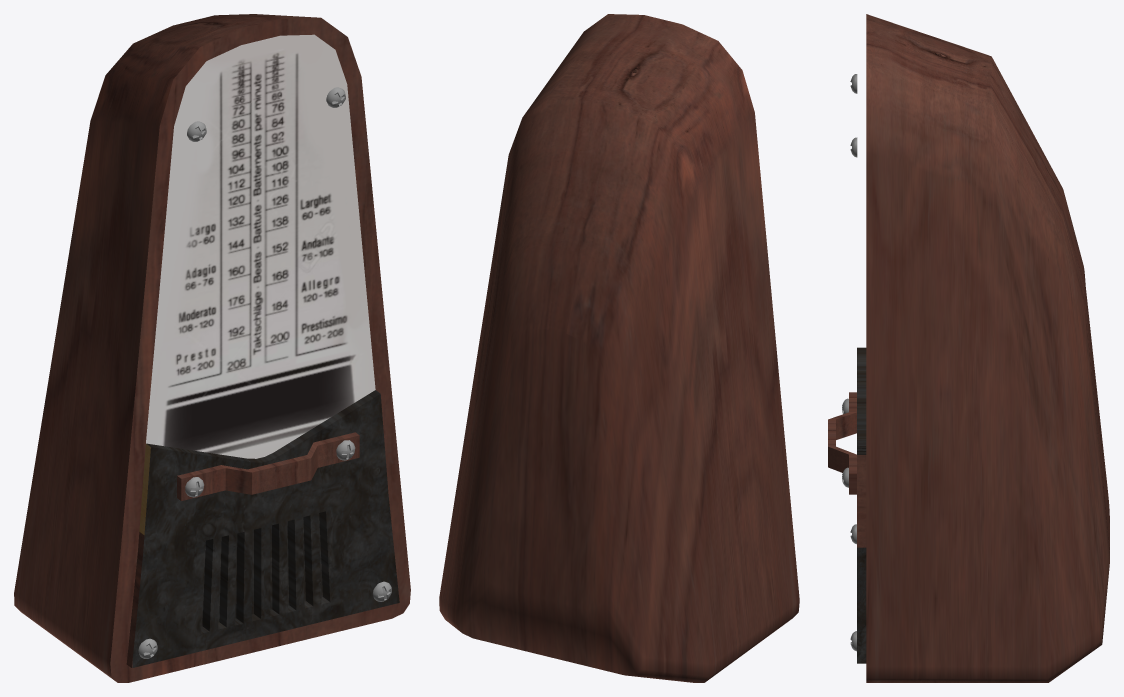
The model's file is ENV_Metronome_01.FBX.
The picture shows the model from 3 angles, left to right: view 1: azimuth 30°, elevation 25°; view 2: azimuth 150°, elevation 25°; view 3: azimuth 270°, elevation 25°; orthographic projection. The views are drawn at different scales.
Visible parts, largest first — view 1: ENV_Metronome_01; view 2: ENV_Metronome_01; view 3: ENV_Metronome_01.
Part boxes in pixels (bbox=[...]): ENV_Metronome_01: bbox=[14, 14, 410, 682]; ENV_Metronome_01: bbox=[439, 14, 799, 682]; ENV_Metronome_01: bbox=[828, 14, 1109, 682].
Size of the model in its own units: 44.04 by 87.74 by 38.21.
1 material, 1 textured.
